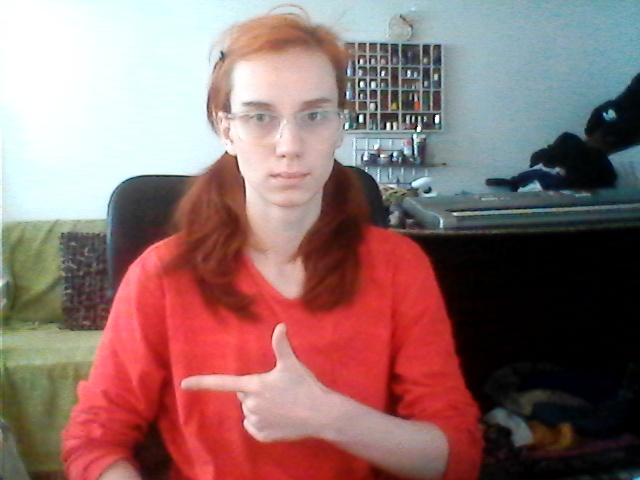dva_dve: (178, 320, 322, 445)
